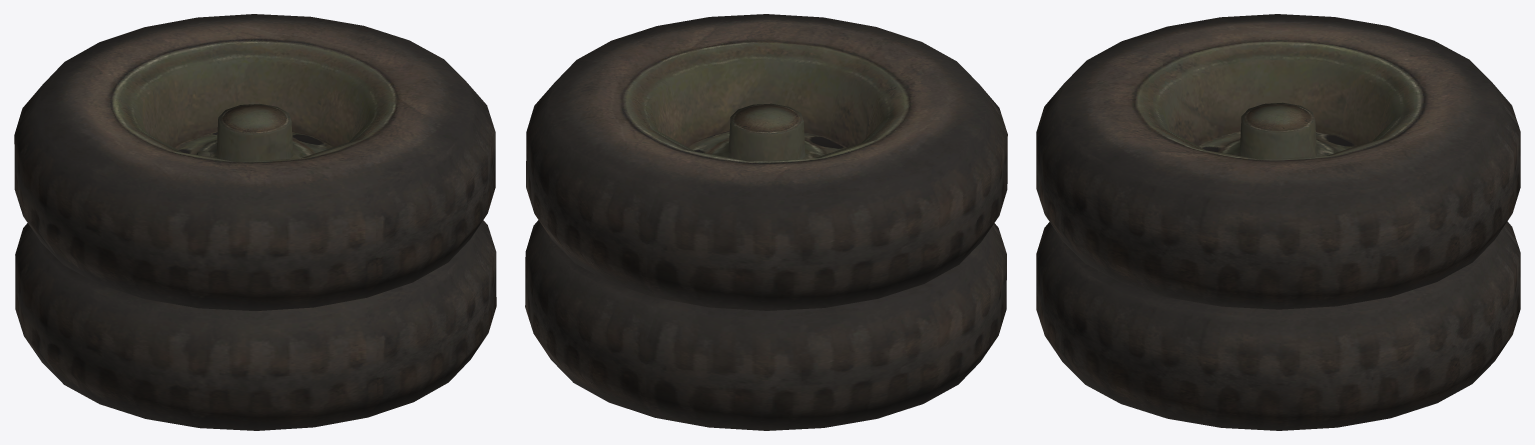
File: rear_tires.obj
3 renders of one model, left to right at view 1: azimuth 30°, elevation 25°; view 2: azimuth 150°, elevation 25°; view 3: azimuth 270°, elevation 25°, orthographic.
Size of the model in its own units: 1.07 by 0.6054 by 1.07.
1 material, 1 textured.
